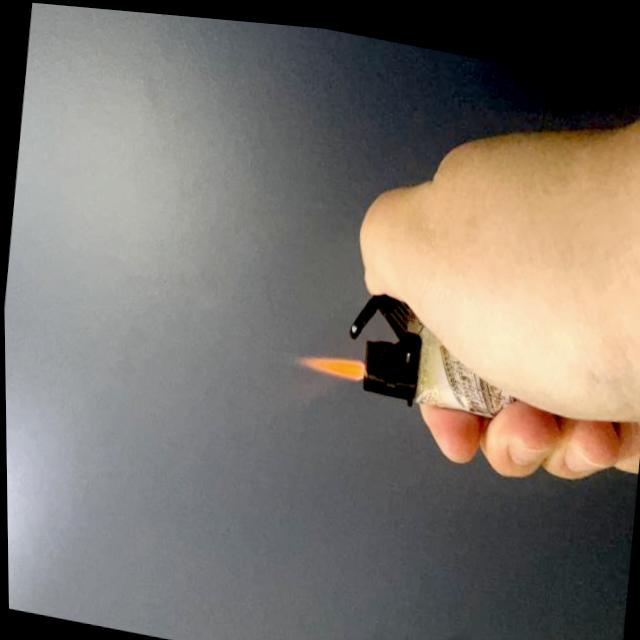Fire: (288, 337, 367, 379)
